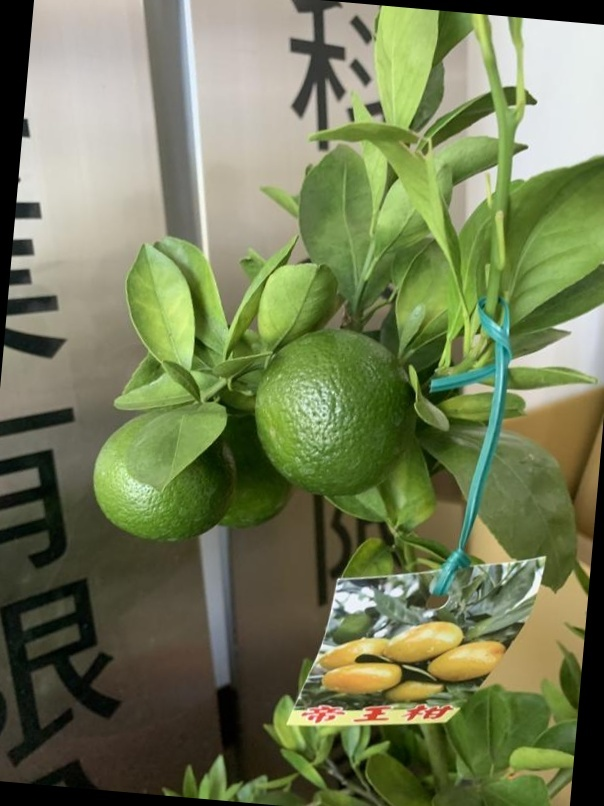Tangerine: (253, 335, 418, 493), (91, 412, 240, 547)
